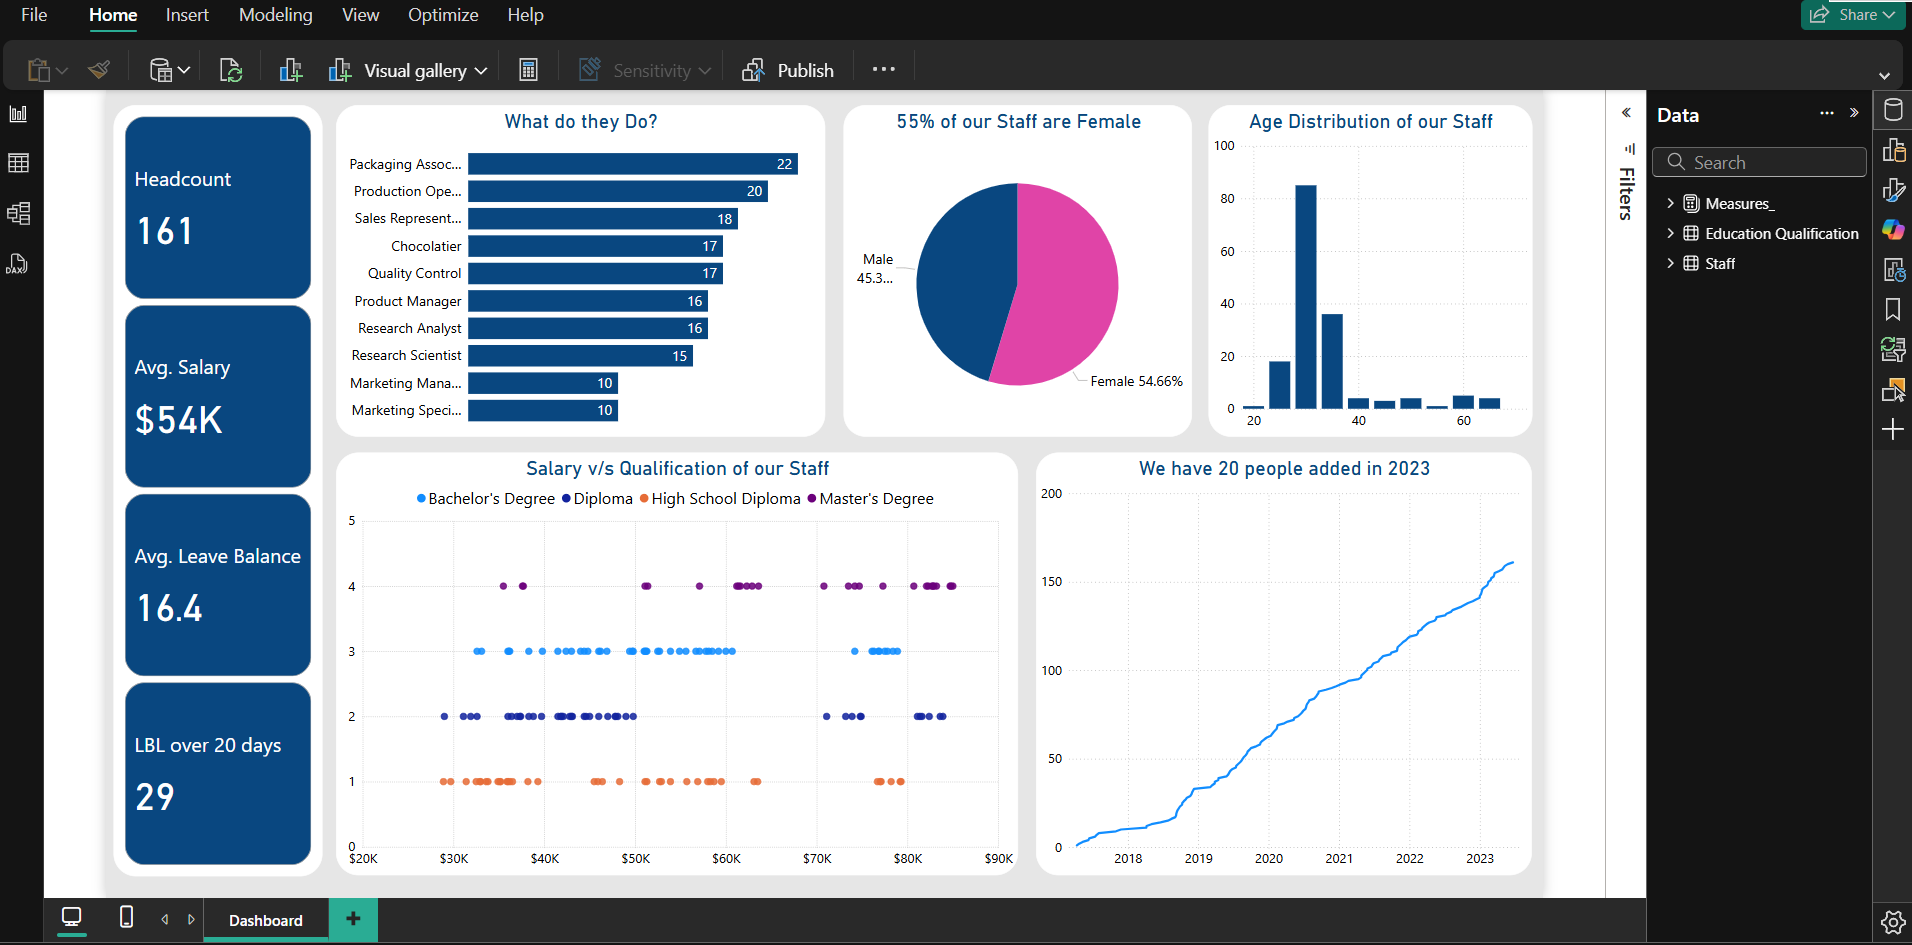

The dashboard page shown, as its layout file describes it:
{"tool":"powerbi","page":{"name":"Dashboard","canvas":[1920,1080],"ordinal":0},"visuals":[{"type":"cardVisual","fields":{"Data":["Measures_.Headcount","Measures_.Avg. Salary","Measures_.Avg. Leave Balance","Measures_.LBL over 20 days"]},"box":[10.8,19.5,279.2,1030.1],"z":0},{"type":"clusteredBarChart","title":"What do they Do?","fields":{"Category":["Staff.Job Title"],"Y":["Staff.Headcount"]},"box":[307.4,20.2,653.4,443.6],"z":1},{"type":"pieChart","title":"55% of our Staff are Female","fields":{"Category":["Staff.Gender"],"Y":["Staff.Headcount"]},"box":[984.7,20.2,465.6,443.6],"z":2},{"type":"clusteredColumnChart","title":"Age Distribution of our Staff","fields":{"Category":["Staff.Age (bins)"],"Y":["Staff.Headcount"]},"box":[1472.4,20.2,432.5,443.6],"z":3},{"type":"scatterChart","title":"Salary v/s Qualification of our Staff","fields":{"Y":["Education Qualification.Qualification ID"],"Series":["Education Qualification.Qualification"],"X":["Staff.Salary"]},"box":[307.4,484.1,911,565],"z":4},{"type":"lineChart","title":"We have 20 people added in 2023","fields":{"Y":["Staff.Cumulative Headcount"],"Category":["Staff.Date of Join"]},"box":[1242.3,484.1,662.6,565],"z":5}]}

Visuals, with their boxes on the page's 1920x1080 design canvas (x1, y1, x2, y2). These are canvas units, not pixel positions in the 1912x945 screenshot, which may show the page scaled, cropped or inside an application window:
cardVisual - Measures_.Headcount x Measures_.Avg. Salary: x1=11, y1=20, x2=290, y2=1050
"What do they Do?" clusteredBarChart: x1=307, y1=20, x2=961, y2=464
"55% of our Staff are Female" pieChart: x1=985, y1=20, x2=1450, y2=464
"Age Distribution of our Staff" clusteredColumnChart: x1=1472, y1=20, x2=1905, y2=464
"Salary v/s Qualification of our Staff" scatterChart: x1=307, y1=484, x2=1218, y2=1049
"We have 20 people added in 2023" lineChart: x1=1242, y1=484, x2=1905, y2=1049
